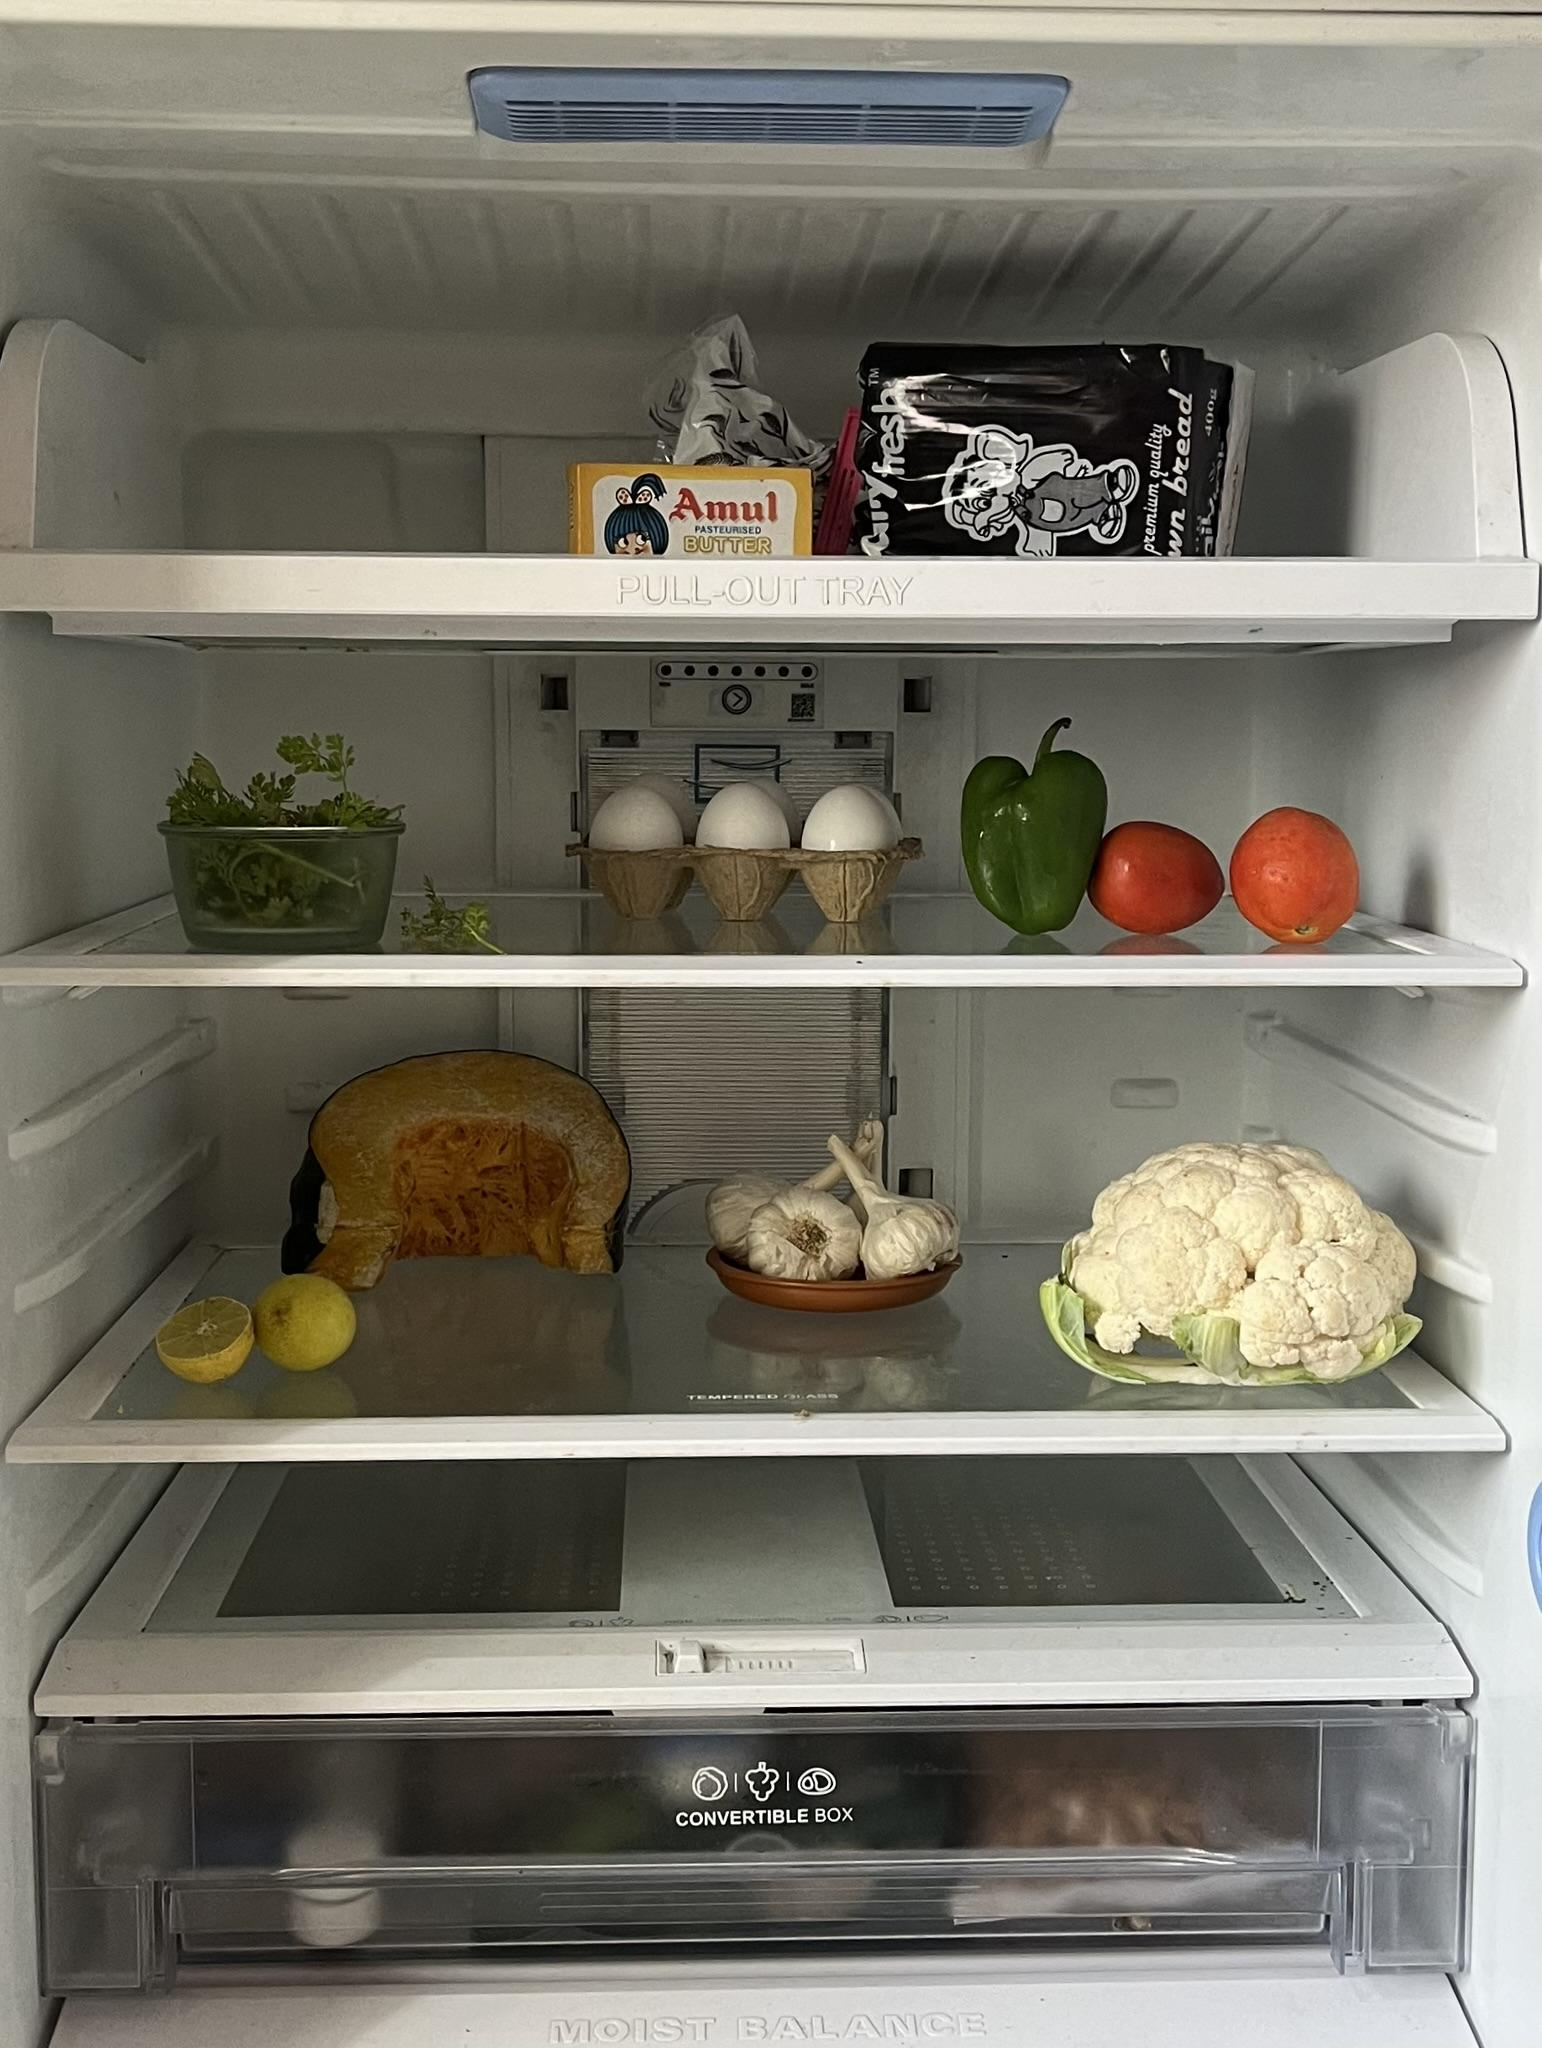bread: (674, 321, 1254, 563)
butter: (567, 460, 823, 563)
capsicum: (946, 727, 1110, 937)
cauliflower: (1056, 1130, 1424, 1376)
coriander: (160, 730, 394, 894)
egg: (583, 774, 897, 863)
garlic: (706, 1117, 964, 1294)
lemon: (157, 1277, 363, 1376)
pumpkin: (283, 1039, 640, 1277)
tomato: (1103, 806, 1354, 944)
